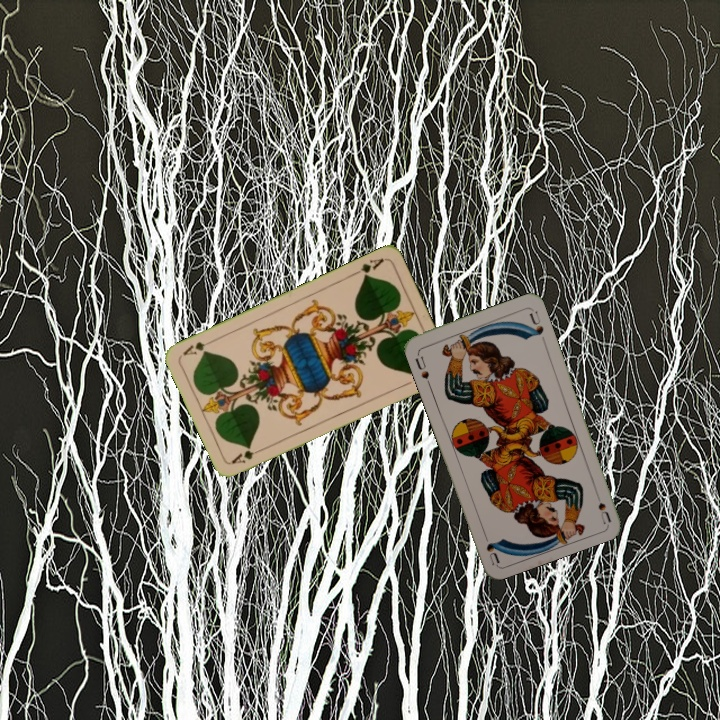GA: (348, 254, 387, 280), (228, 444, 267, 467)
SU: (590, 485, 613, 525), (411, 352, 433, 388)
